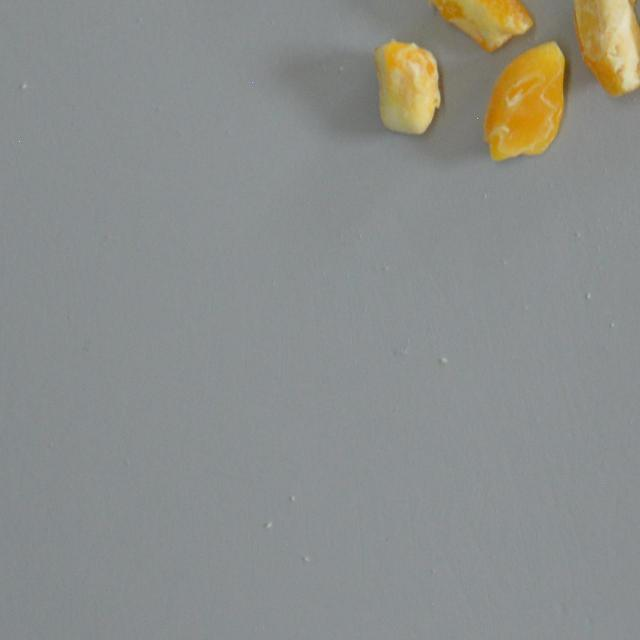dañado: (478, 36, 568, 165), (570, 0, 640, 100), (426, 0, 536, 54)
pelicula: (368, 34, 447, 138)
